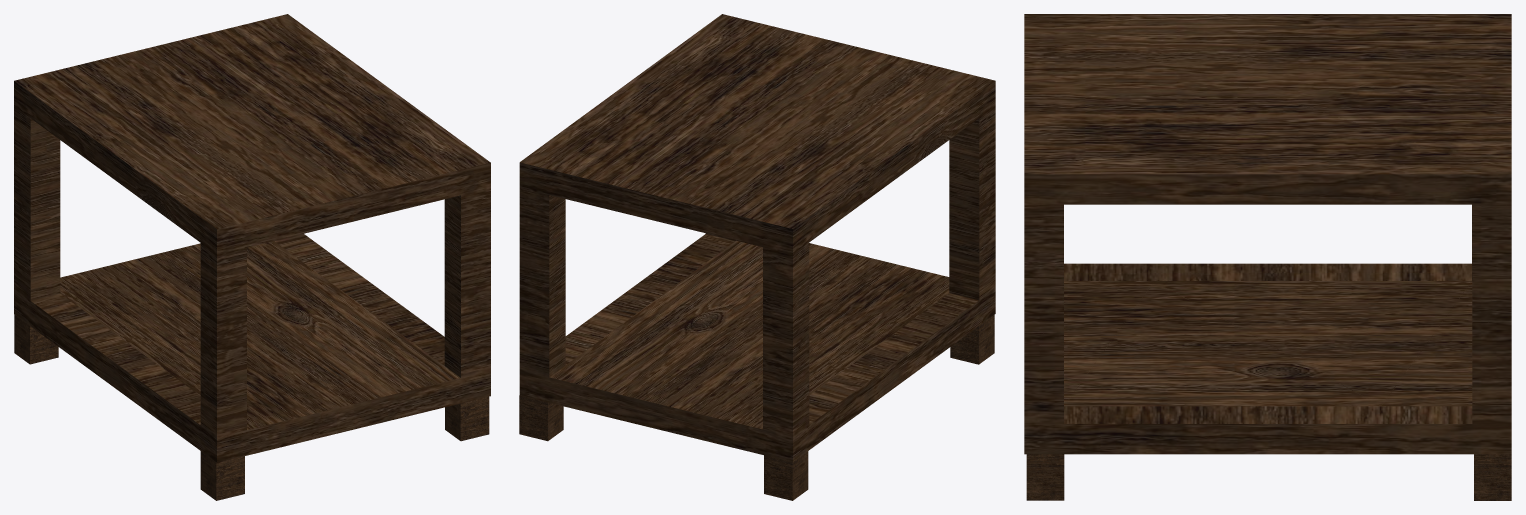
Rendered from MesinhaTelevisao.fbx.
The picture shows the model from 3 angles, left to right: view 1: azimuth 30°, elevation 25°; view 2: azimuth 150°, elevation 25°; view 3: azimuth 270°, elevation 25°; orthographic projection. The views are drawn at different scales.
Parts seen in each view (by area): view 1: Cube.002, Cube.003, Cube.004, Cube; view 2: Cube.002, Cube, Cube.001, Cube.003; view 3: Cube.002, Cube.004, Cube.001.
Boxes of the visible parts, x1,y1,x2,y2 form: Cube.002: (14, 14, 490, 462); Cube.003: (200, 451, 244, 500); Cube.004: (445, 396, 489, 441); Cube: (14, 315, 58, 364); Cube.002: (519, 14, 995, 461); Cube: (764, 451, 808, 500); Cube.001: (519, 395, 563, 441); Cube.003: (950, 315, 994, 364); Cube.002: (1024, 14, 1511, 454); Cube.004: (1026, 454, 1064, 500); Cube.001: (1474, 454, 1511, 500).
Size of the model in its own units: 245 by 233 by 315.
1 material, 1 textured.
